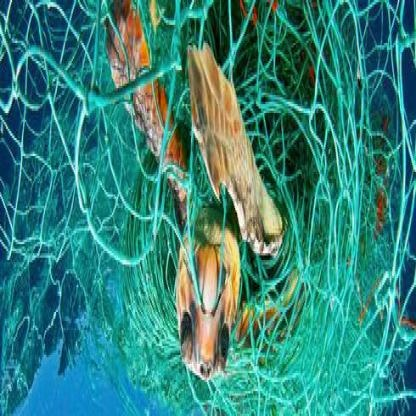net: (3, 2, 416, 416)
